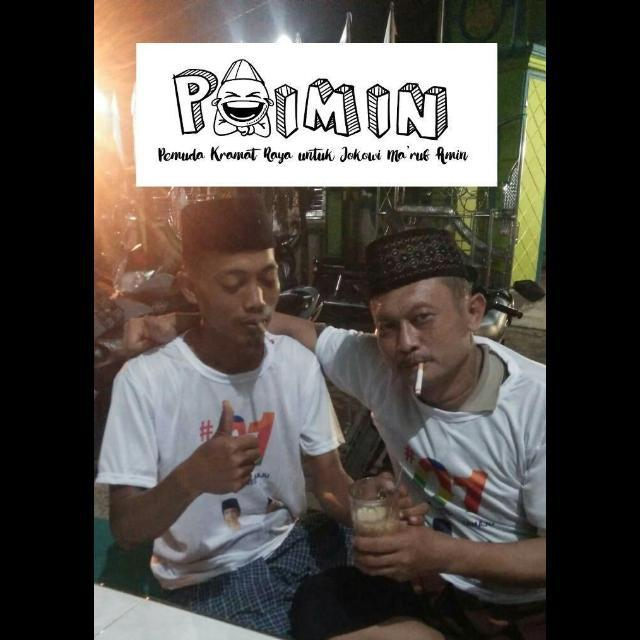rokok: (401, 354, 435, 394)
